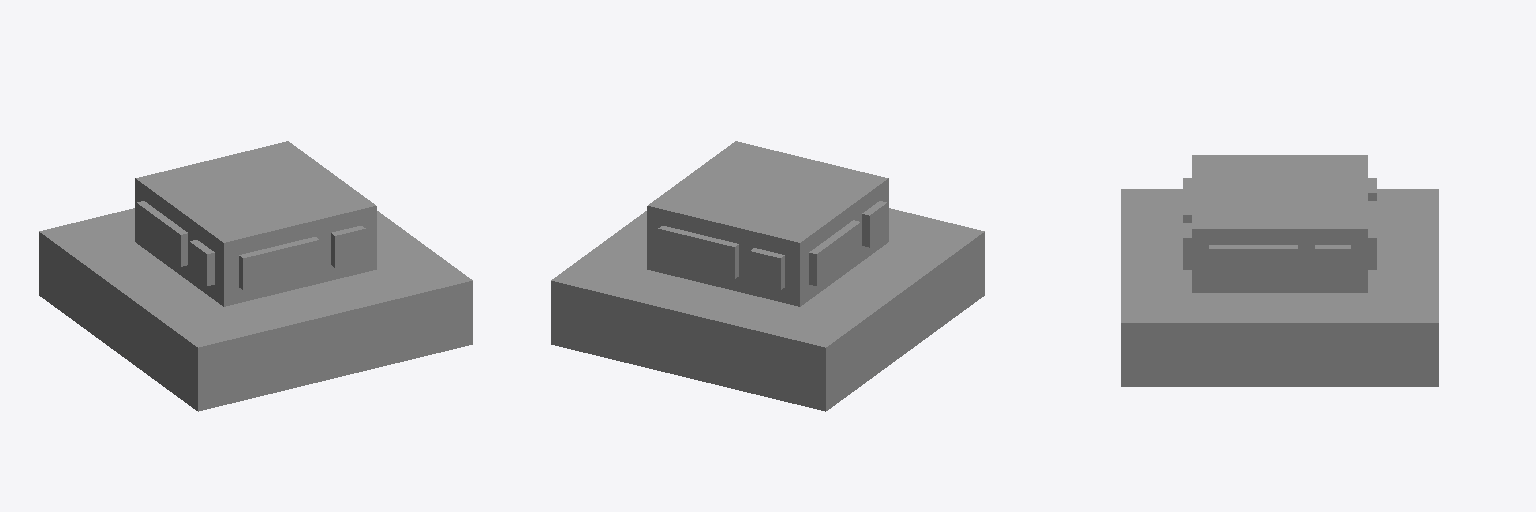
Rendered from kyberHolder.obj.
3 views of the same model, side by side, from view 1: azimuth 30°, elevation 25°; view 2: azimuth 150°, elevation 25°; view 3: azimuth 270°, elevation 25° (orthographic).
Visible parts, largest first — view 1: Cube; view 2: Cube; view 3: Cube.
Boxes of the visible parts, box(x1,y1,x2,y2) form: Cube: box(39, 141, 472, 411); Cube: box(551, 141, 984, 411); Cube: box(1121, 155, 1438, 386).
Bounding box in the file's own units: 0.5625 × 0.25 × 0.5625.